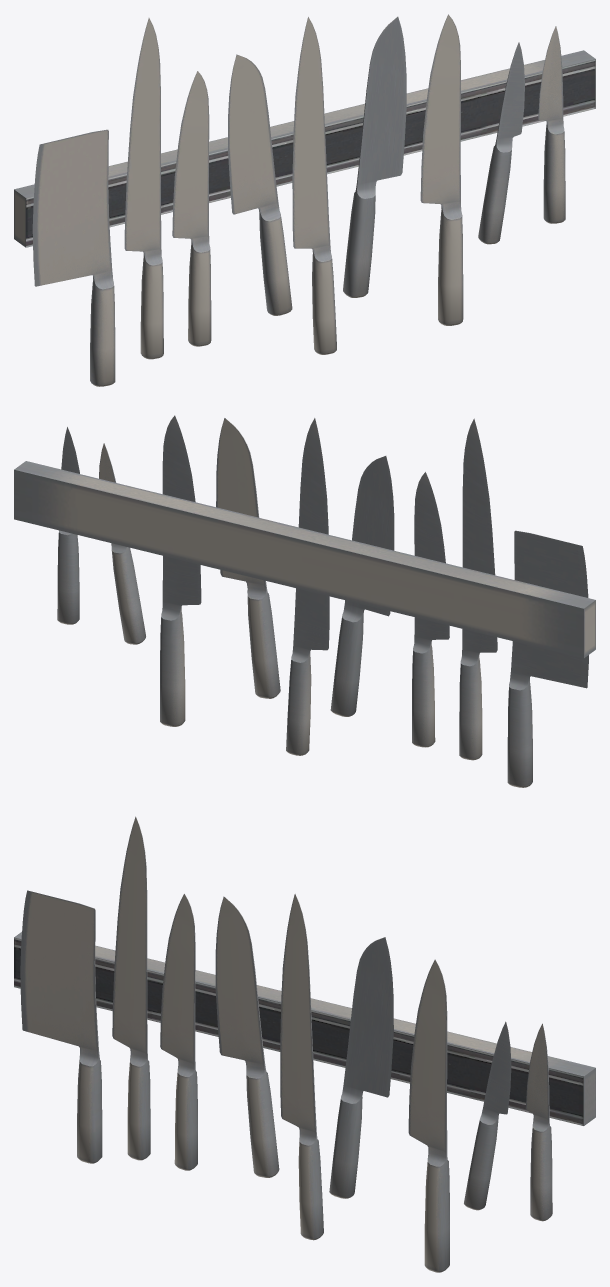
The model's file is SM_Utensils_Knives_01.glb.
3 views of the same model, one above another, from view 1: azimuth 30°, elevation 25°; view 2: azimuth 150°, elevation 25°; view 3: azimuth 330°, elevation 25° (orthographic).
Parts seen in each view (by area): view 1: SM_Utensils_Knives_01; view 2: SM_Utensils_Knives_01; view 3: SM_Utensils_Knives_01.
Part boxes in pixels (x1,y1,x2,y2): SM_Utensils_Knives_01: (14,14,595,386); SM_Utensils_Knives_01: (14,415,595,787); SM_Utensils_Knives_01: (14,816,595,1272).
Size of the model in its own units: 0.7755 by 0.4954 by 0.0435.
1 material, 1 textured.
